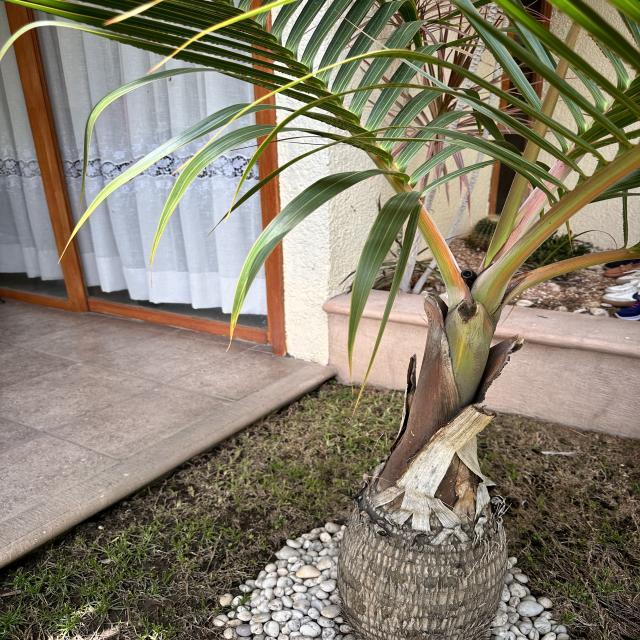hidden camera: (461, 270, 474, 279)
